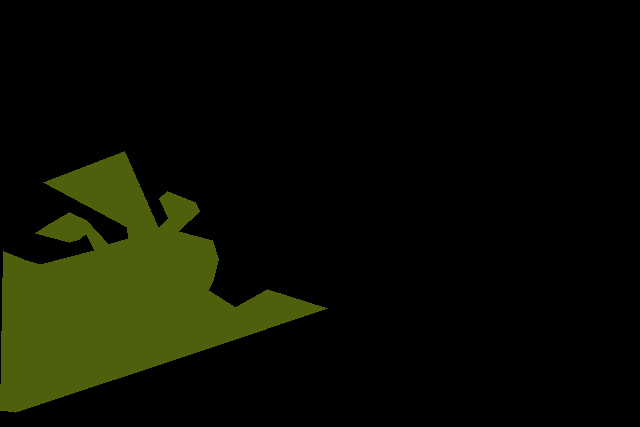Train: (0, 151, 327, 412)
